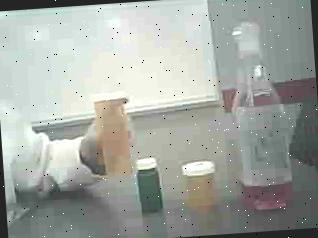Bottle A: (89, 88, 131, 178)
Bottle B: (177, 151, 223, 214)
Bottle C: (135, 152, 170, 222)
hazard: (226, 16, 302, 214)
